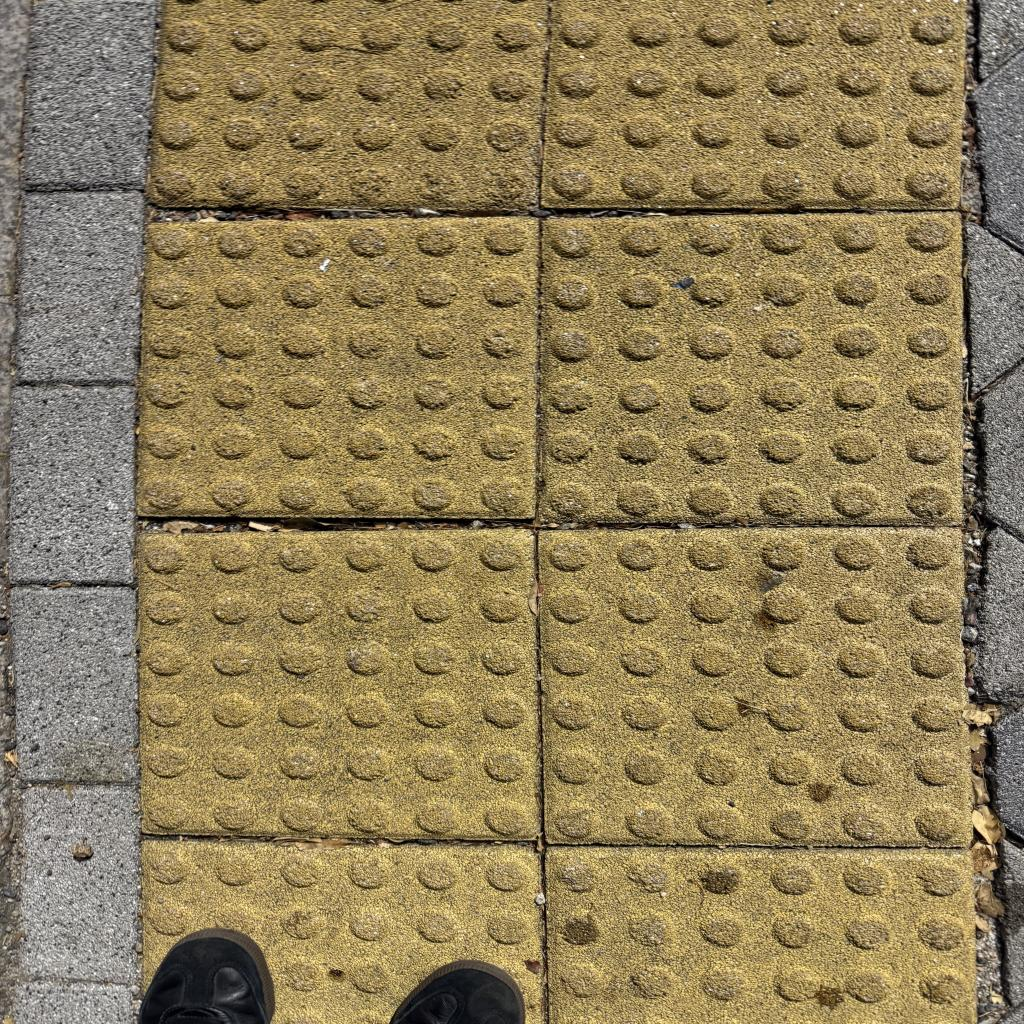Stop block normal: (544, 533, 963, 846), (148, 222, 533, 514)
